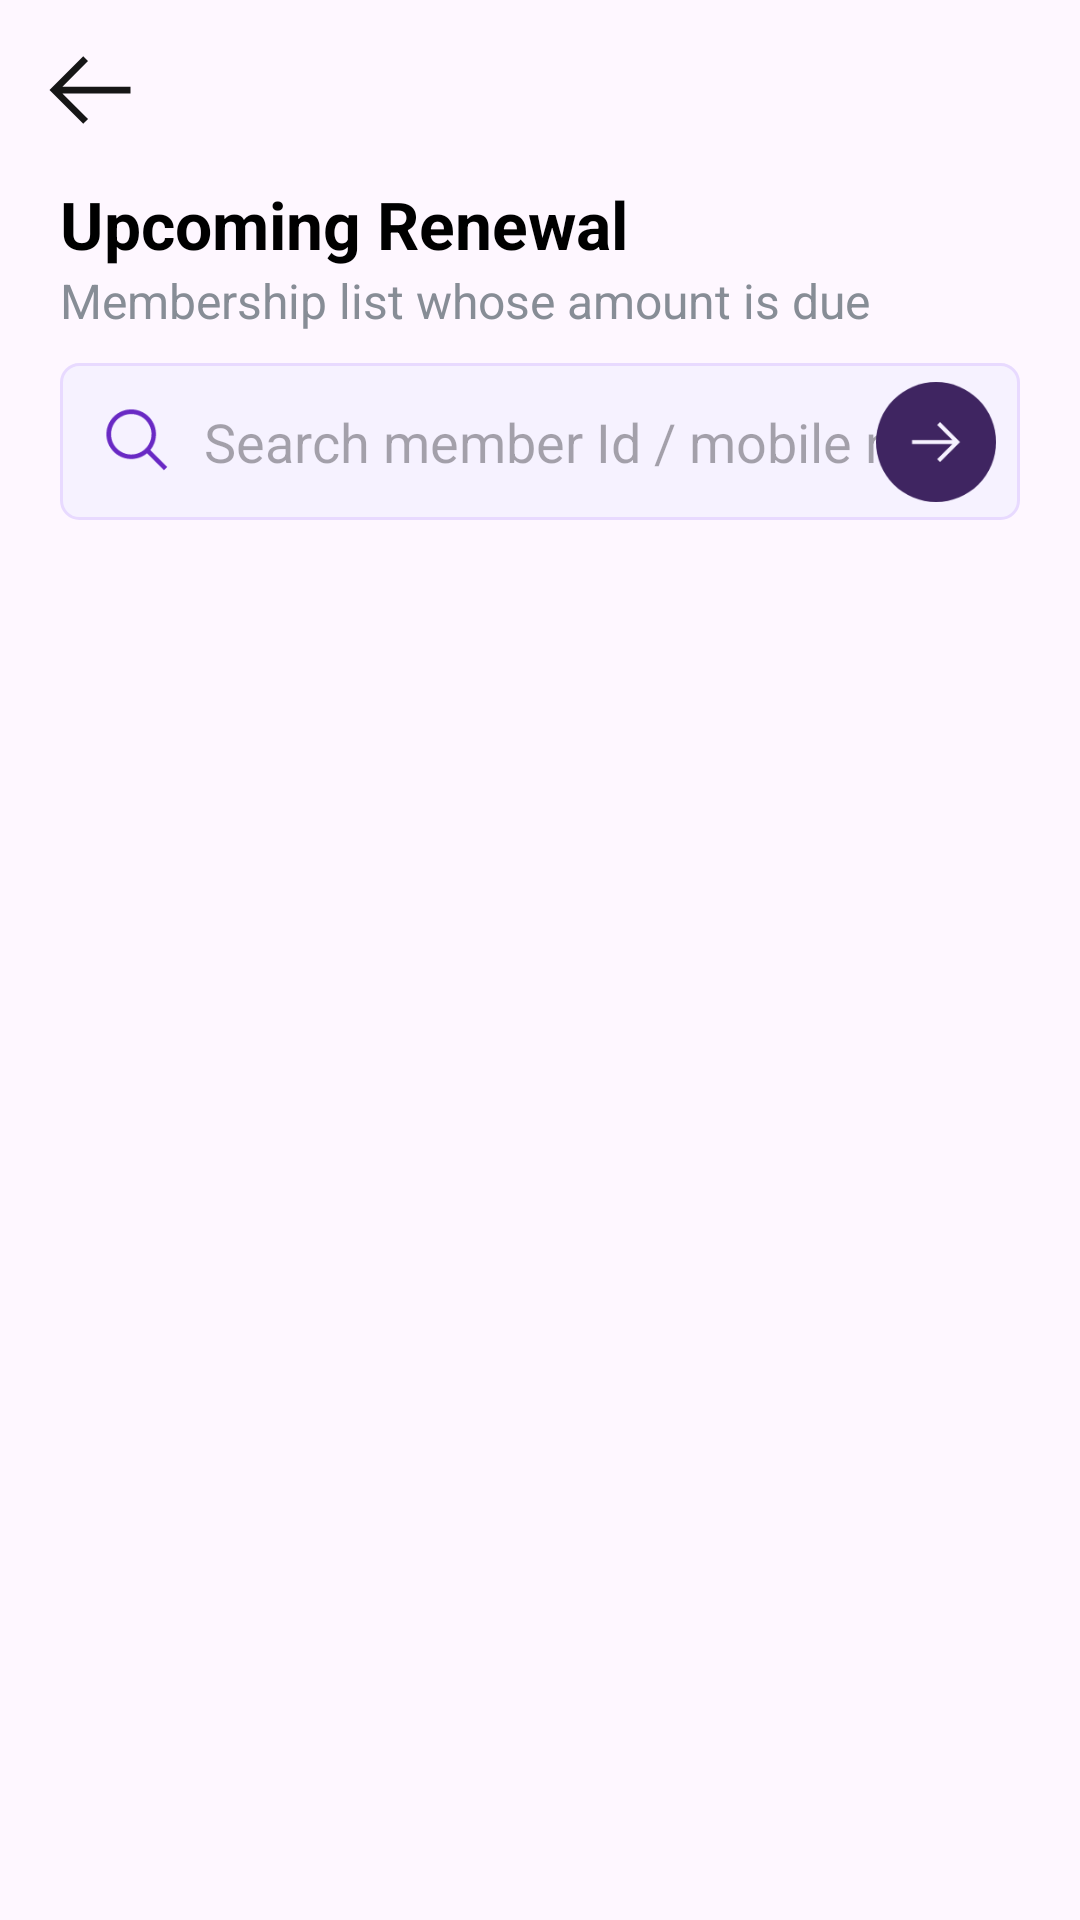

Icons on this 1080px×1920px Android screen, each with the point to tap as point (x, y):
back: point (90, 90)
search next: point (936, 442)
